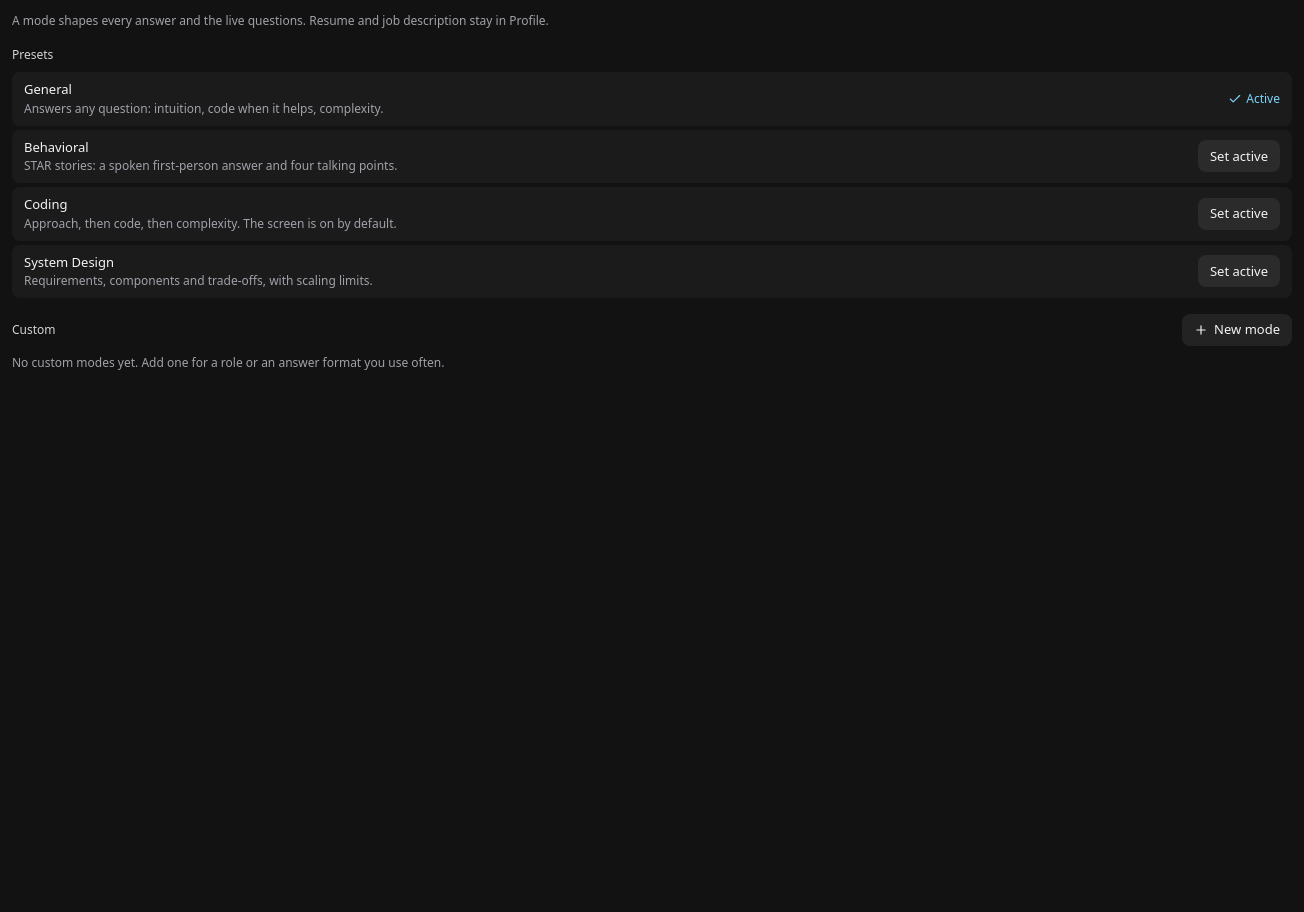
Test: Modes tab › creates a custom mode from New mode, focusing its name field, and needs a name and prompt
The image size is (1304, 912).
Click the button "New mode" at (1237, 330), box [1182,314,1292,346]
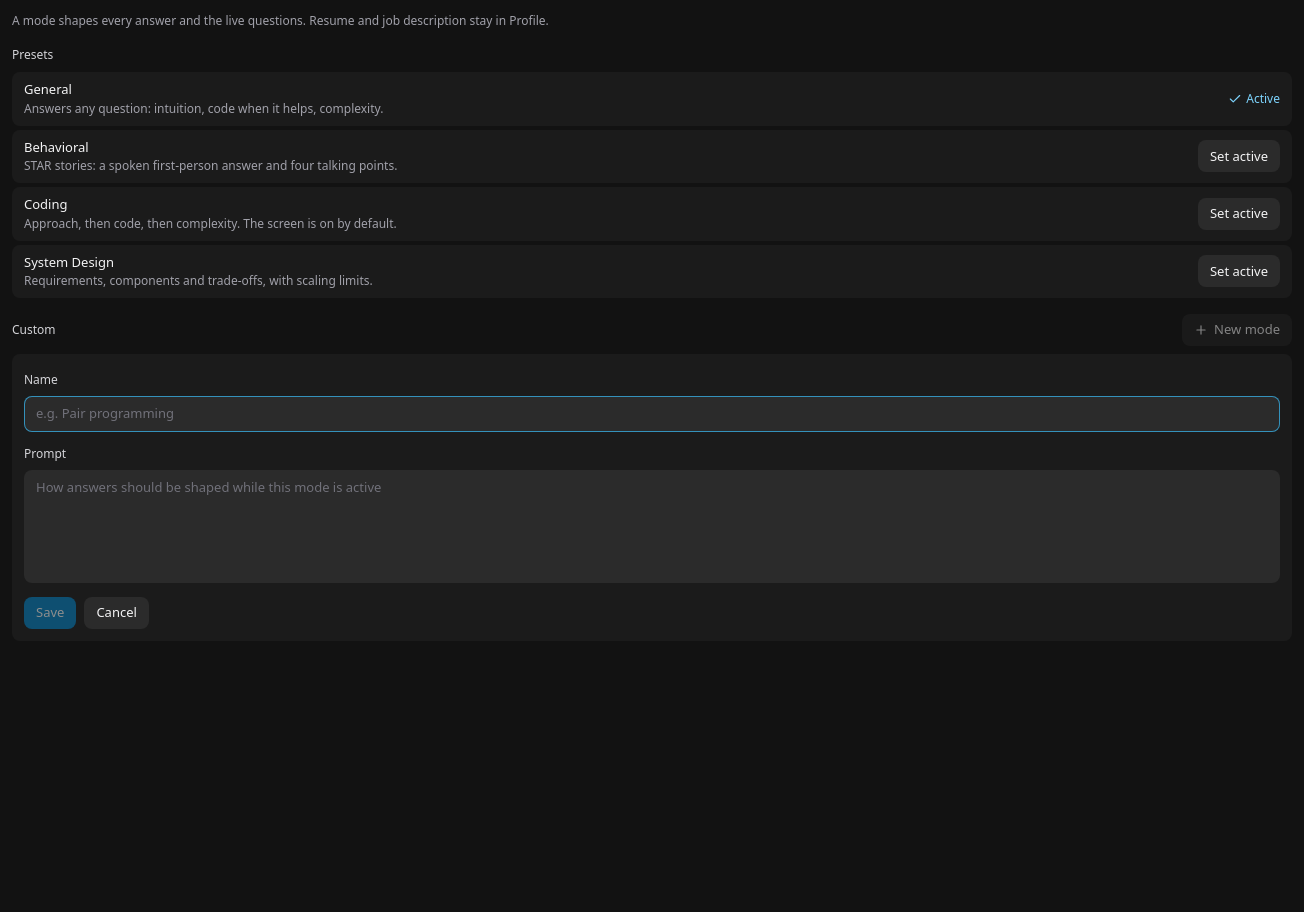
Expected: the button "Save" is disabled, [24,597,76,629]
Type "Pair programming" into the field labelled "Name" at (652, 414), box [24,396,1280,432]
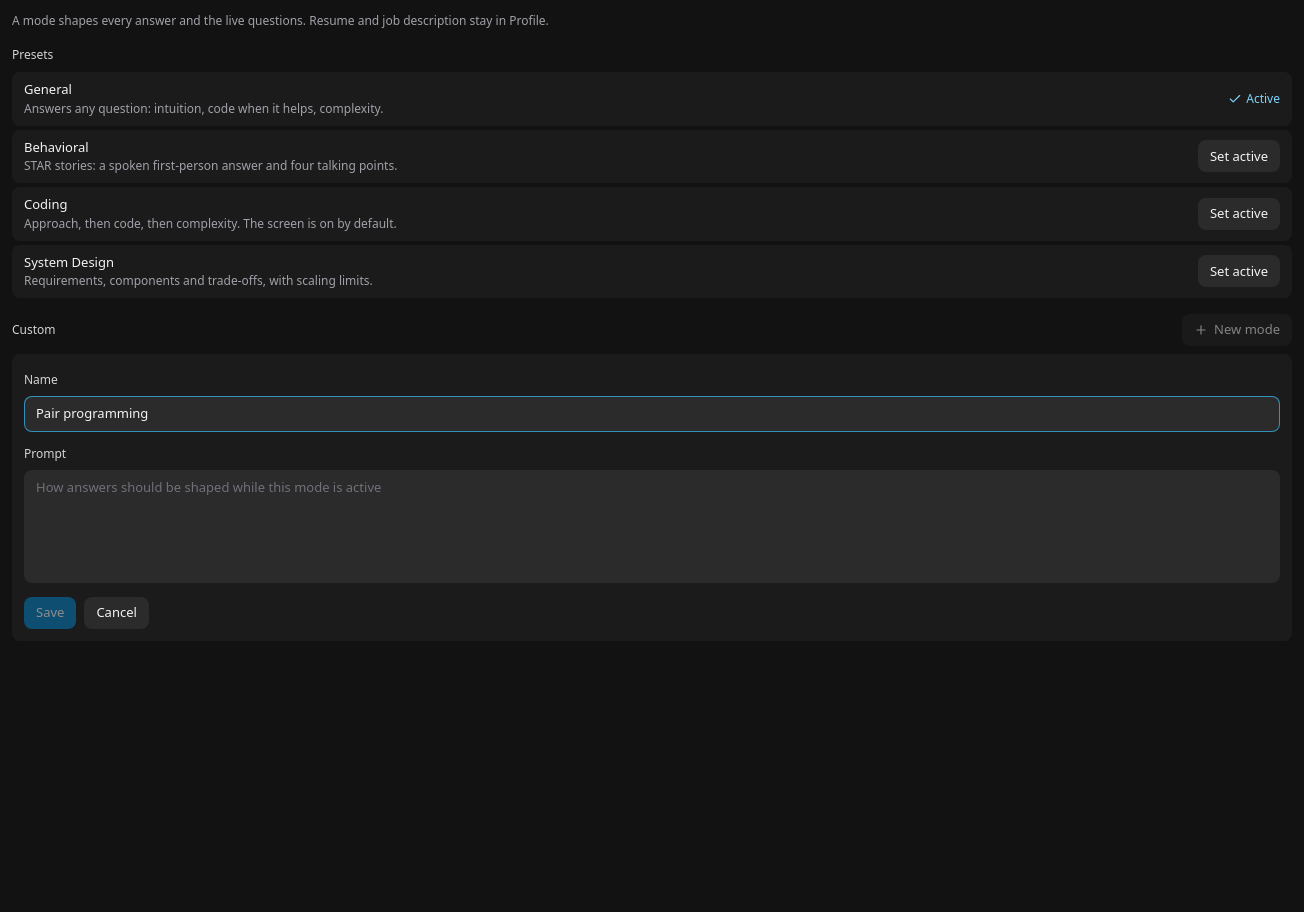
Expected: the button "Save" is disabled, [24,597,76,629]
Type "Think out loud and name the invariant." into the text box labelled "Prompt" at (652, 526), box [24,470,1280,583]
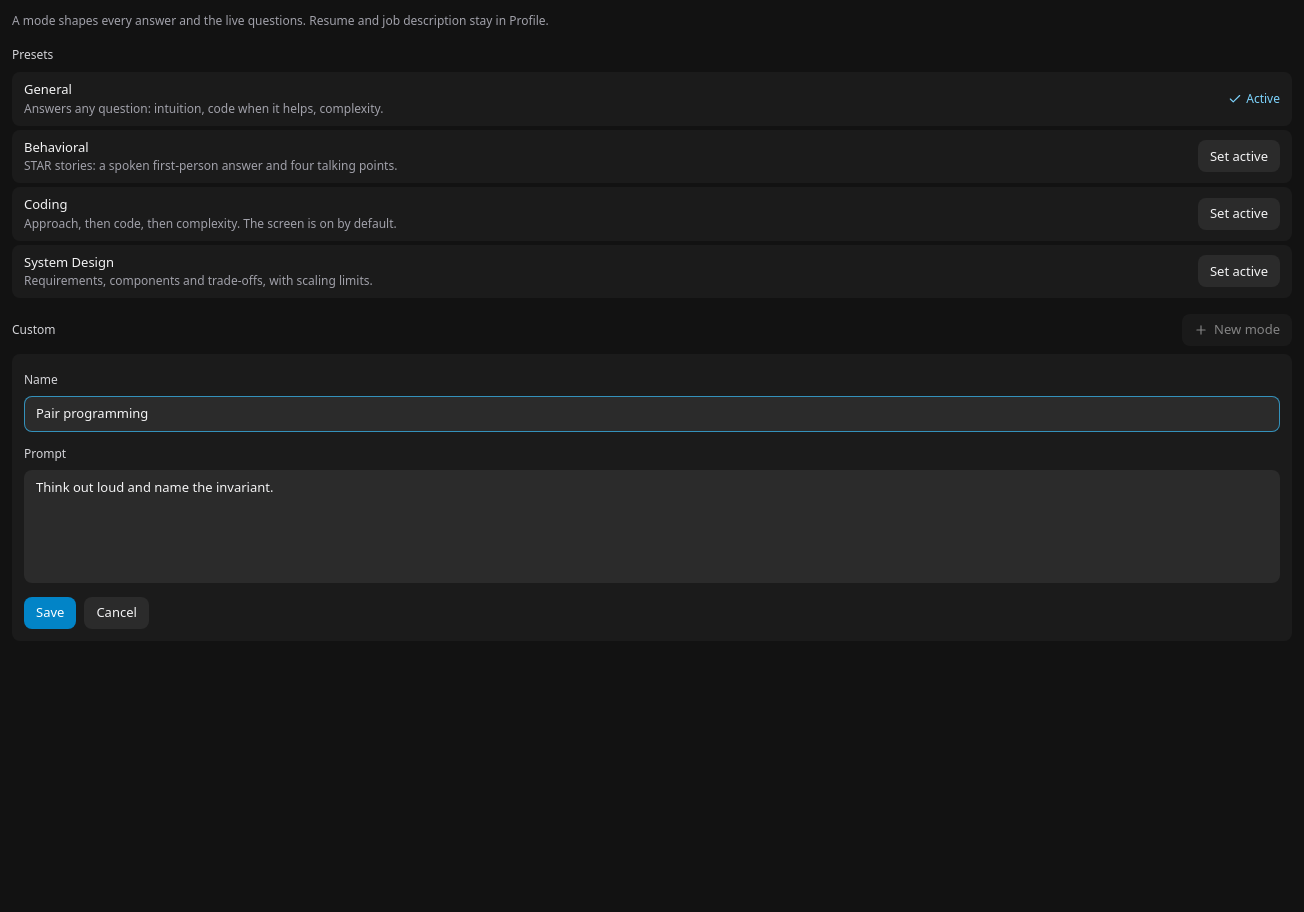
Expected: the button "Save" is enabled
Click the button "Save" at (50, 613), box [24,597,76,629]
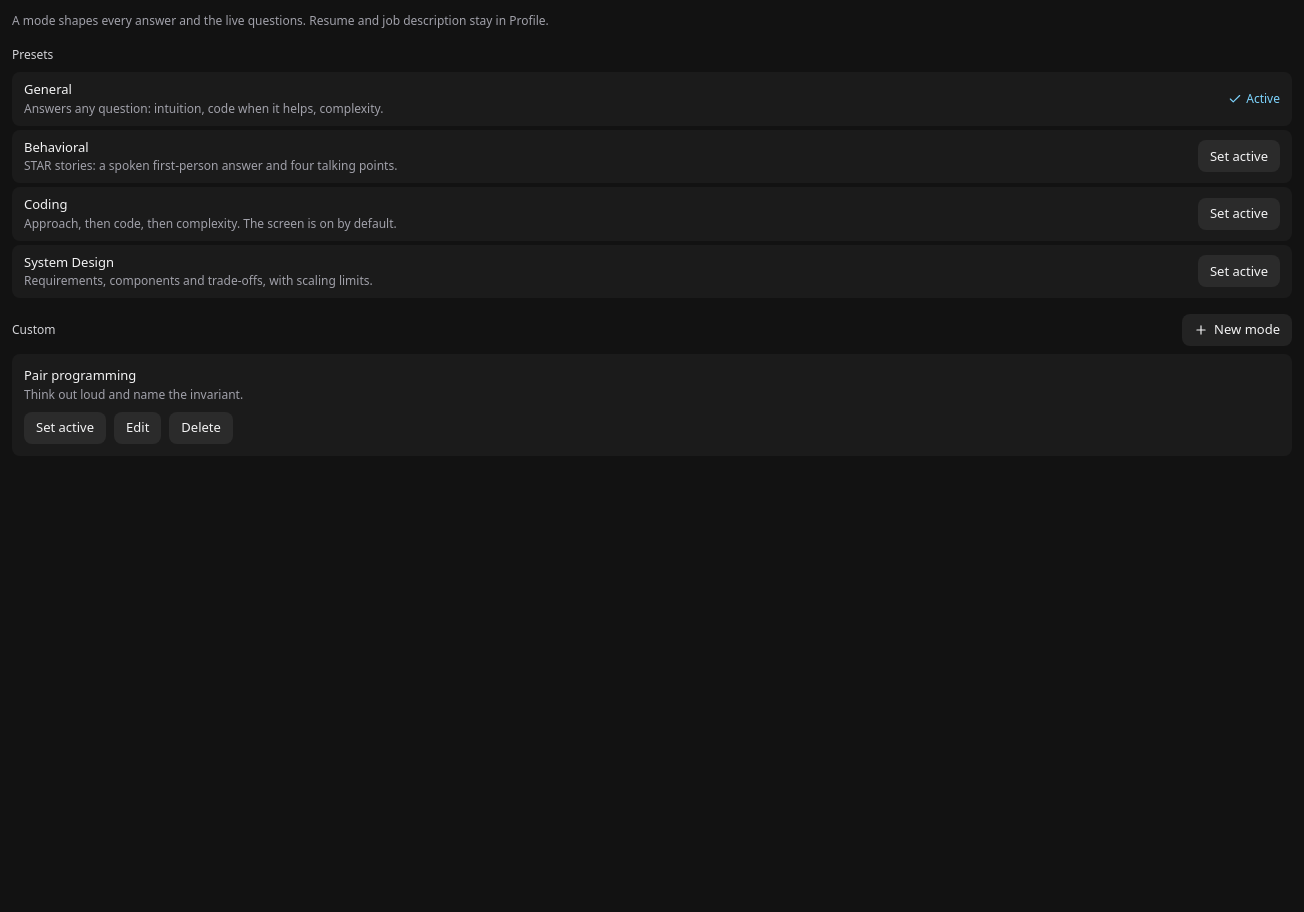
Expected: the text "Pair programming" is shown, [24,366,136,384]
